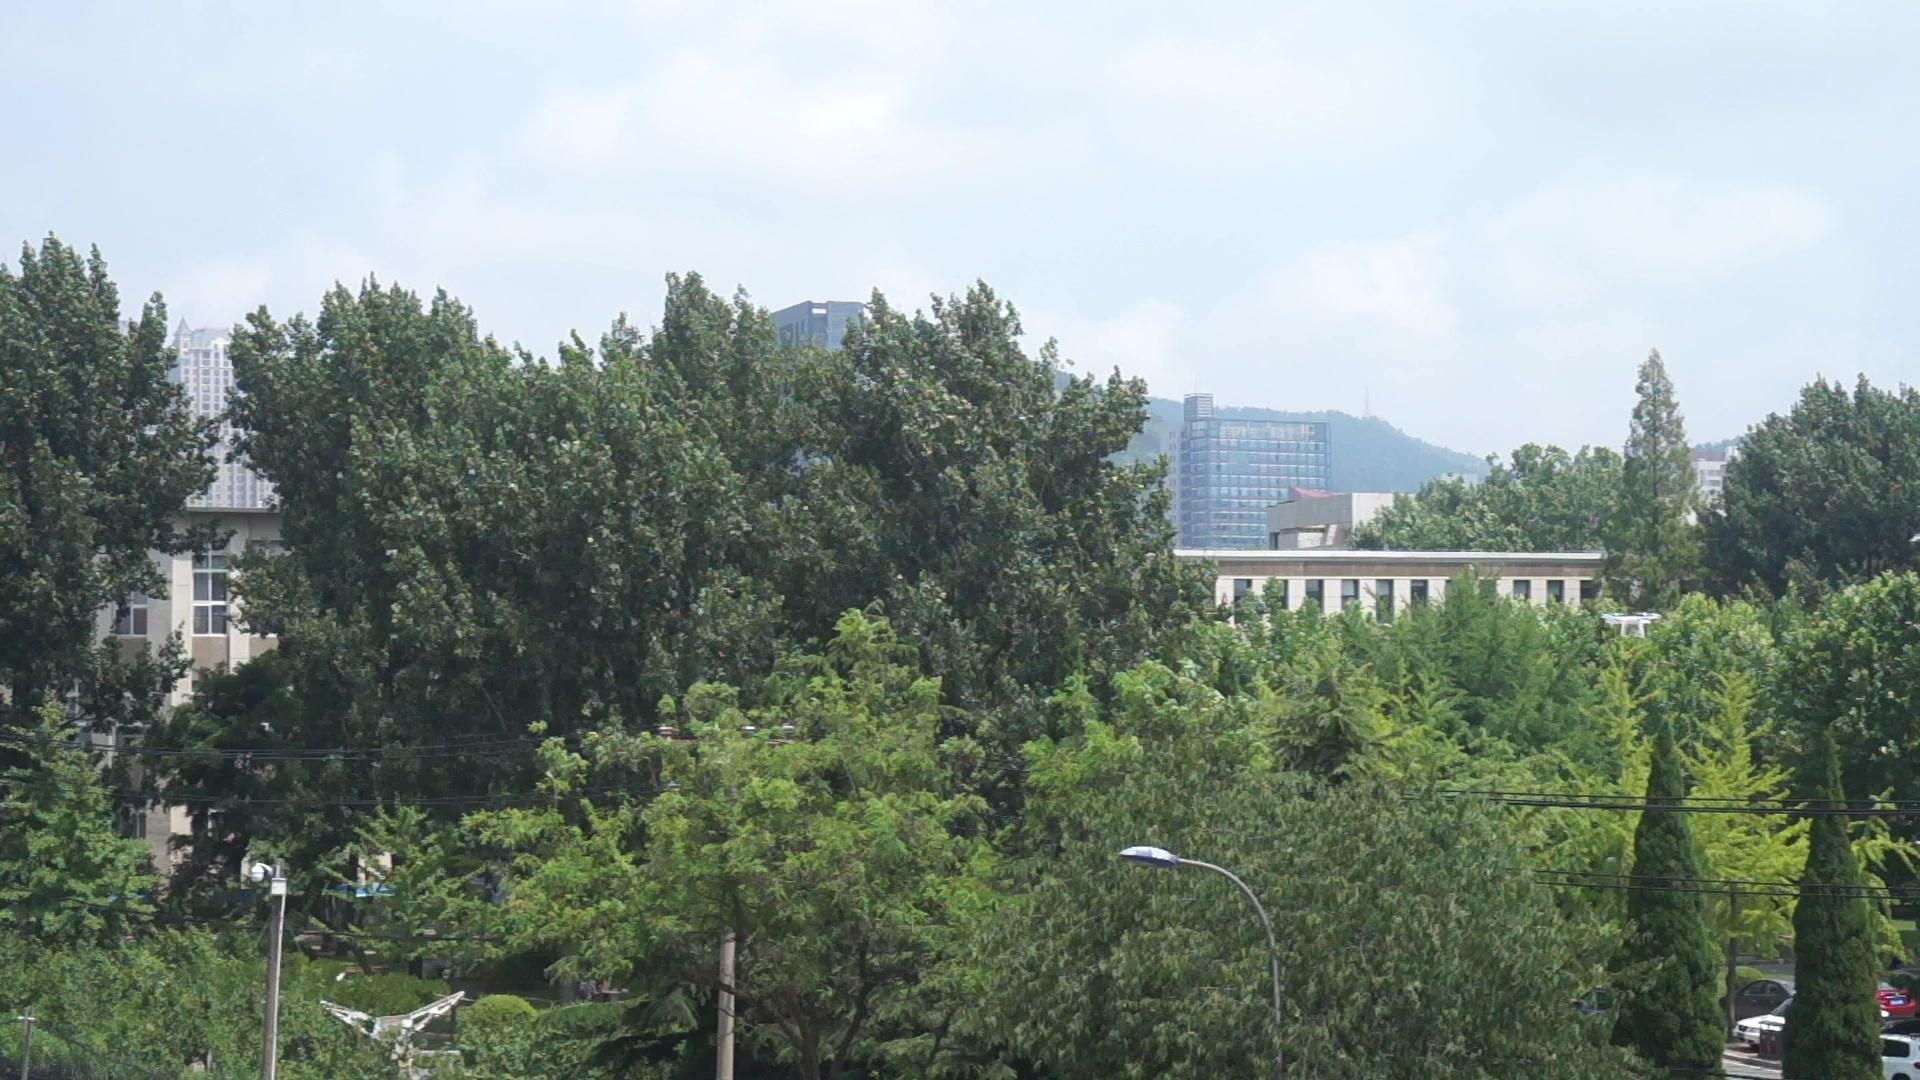UAV: (1601, 613, 1663, 640)
